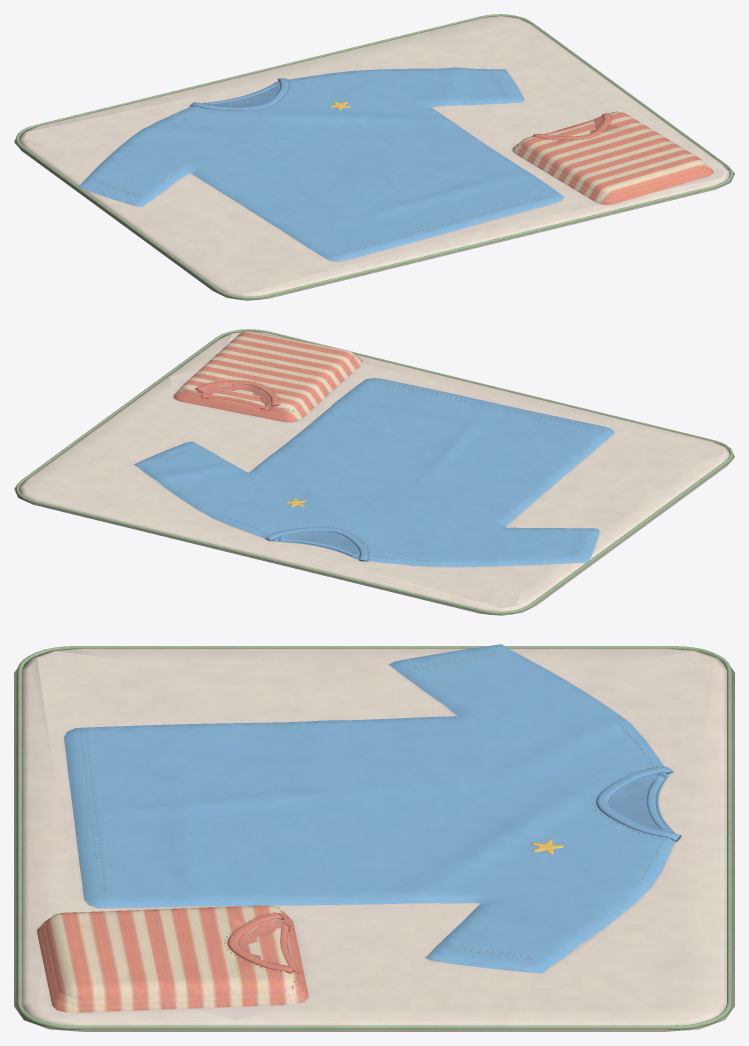
The model's file is t-shirt.glb.
The picture shows the model from 3 angles, top to bottom: view 1: azimuth 30°, elevation 25°; view 2: azimuth 150°, elevation 25°; view 3: azimuth 270°, elevation 25°; orthographic projection. The views are drawn at different scales.
Parts seen in each view (by area): view 1: t-shirt_body; view 2: t-shirt_body; view 3: t-shirt_body.
Boxes of the visible parts, x1=… form: t-shirt_body: x1=14, y1=14, x2=734, y2=300; t-shirt_body: x1=14, y1=329, x2=734, y2=615; t-shirt_body: x1=14, y1=644, x2=734, y2=1031.
Size of the model in its own units: 1.06 by 0.036 by 0.84.
1 material, 1 textured.
